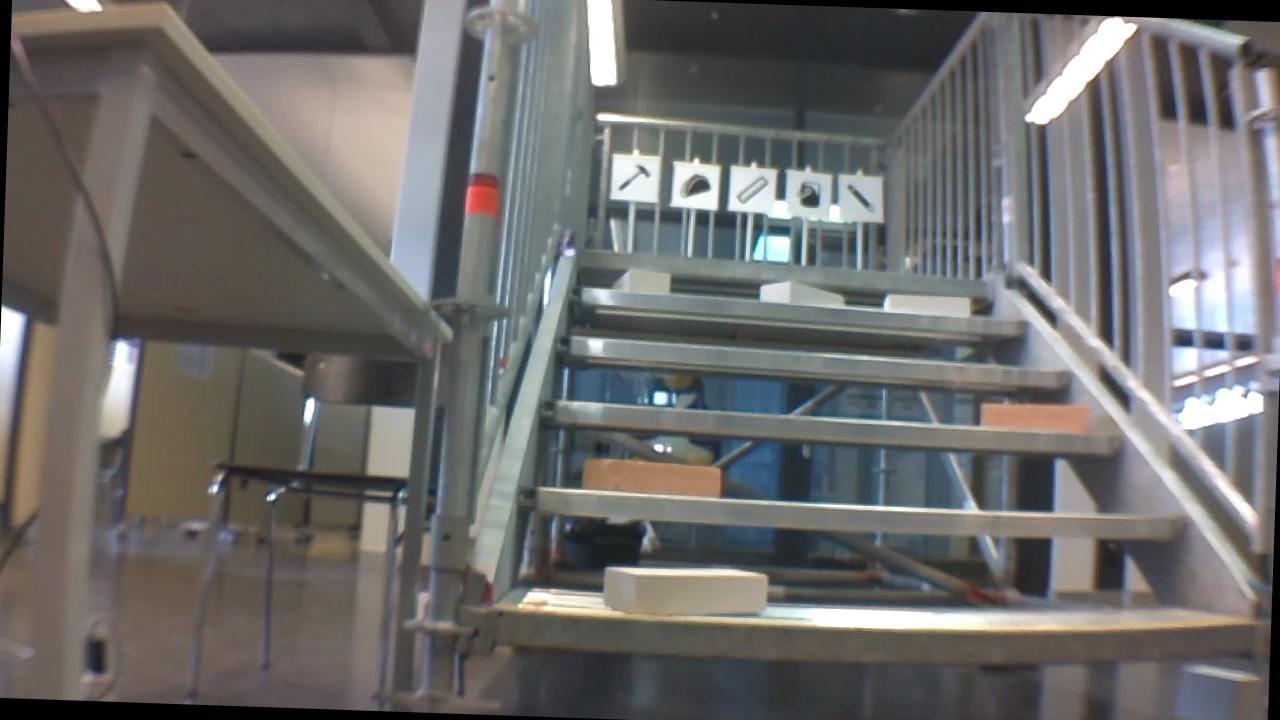brick: (603, 563, 765, 619), (583, 457, 719, 497), (980, 401, 1091, 433), (758, 281, 844, 307), (884, 293, 967, 315), (614, 269, 669, 291)
bucket: (791, 177, 826, 209)
edge: (496, 597, 1252, 676), (519, 486, 1187, 542), (539, 399, 1120, 451), (555, 335, 1072, 389), (567, 287, 1027, 336), (573, 248, 989, 293)
hammer: (612, 159, 653, 196)
pencil: (843, 181, 881, 215)
ruler: (732, 171, 774, 208)
steps: (489, 238, 1269, 685)
taco: (674, 168, 714, 199)
